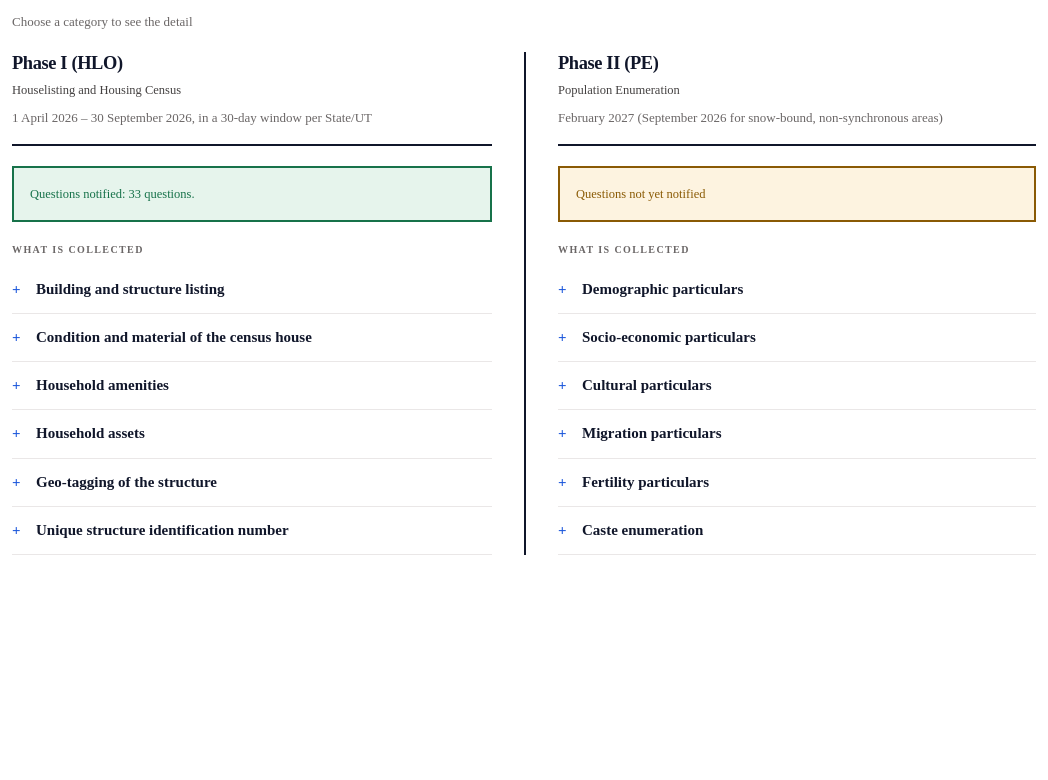
Test: REQ-1 phase comparison UI › reveals why a category is asked and what is not collected
The width and height of the screenshot is (1048, 780).
Click the button "+ Household assets": (90, 433) [12,410,492,458]
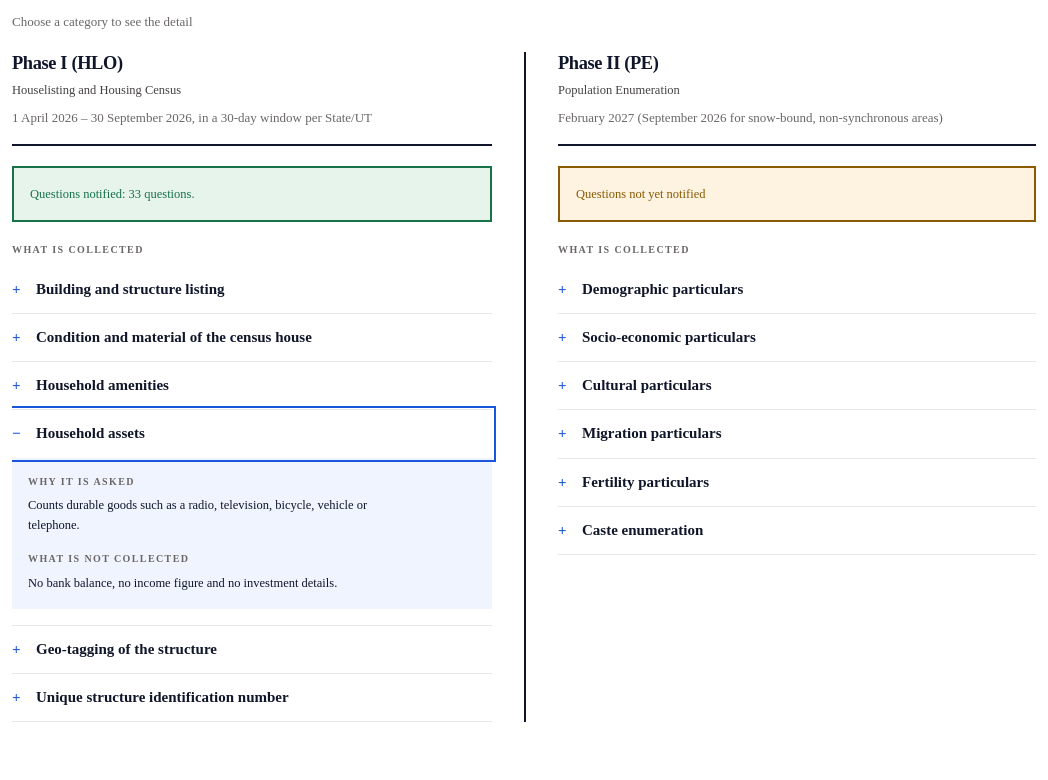
Expected: the text "No bank balance, no income figure and no investment details." is shown, [28,576,337,590]
